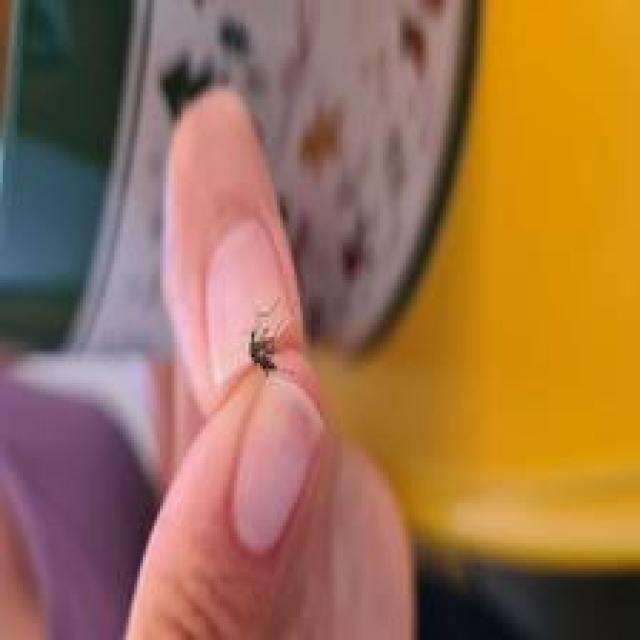Aedes albopictus: (246, 296, 291, 378)
